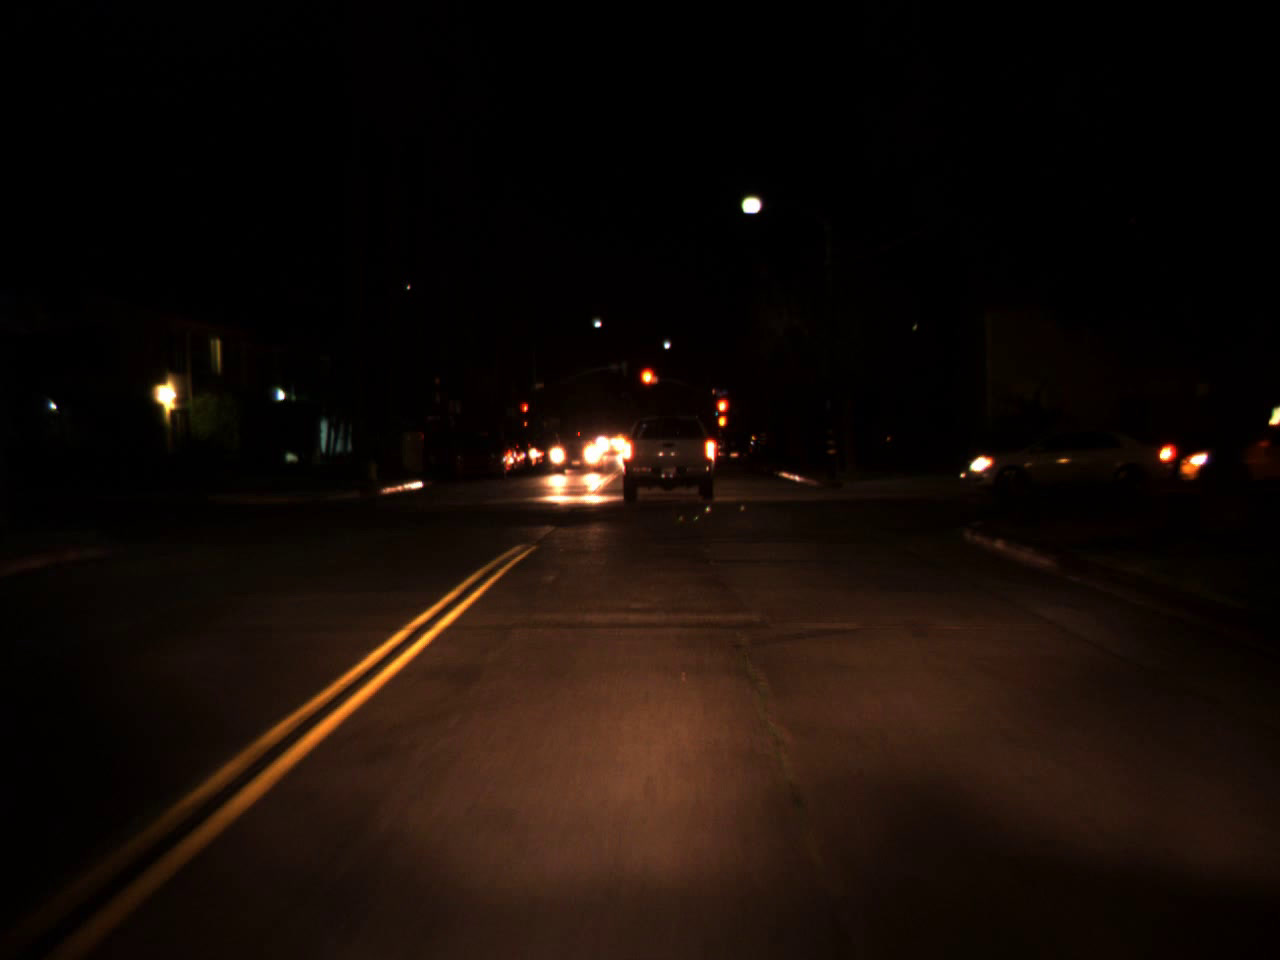stop: (638, 366, 659, 403), (715, 397, 730, 429), (520, 402, 529, 423)
